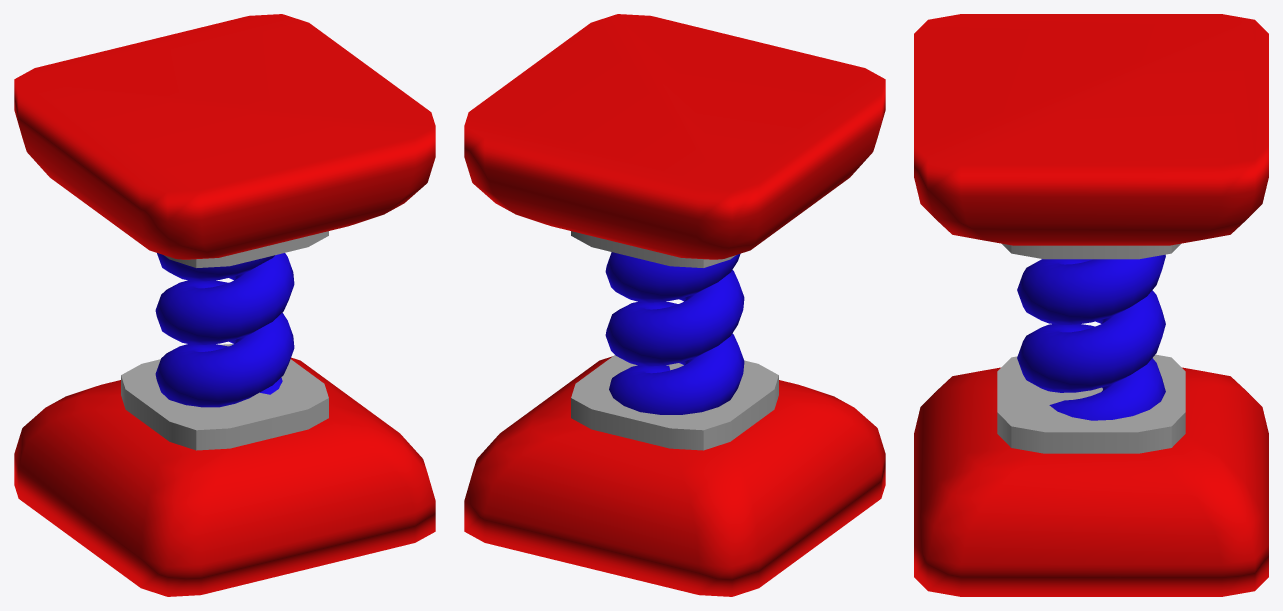
The model's file is springnew-1.fbx.
The picture shows the model from 3 angles, left to right: view 1: azimuth 30°, elevation 25°; view 2: azimuth 150°, elevation 25°; view 3: azimuth 270°, elevation 25°; orthographic projection. The views are drawn at different scales.
Parts seen in each view (by area): view 1: Top, Bottom, pHelix1; view 2: Top, Bottom, pHelix1; view 3: Top, Bottom, pHelix1.
Part boxes in pixels (x1,y1,x2,y2): Top: (14,14,435,267); Bottom: (14,344,435,596); pHelix1: (155,253,294,407); Top: (464,14,885,267); Bottom: (464,355,885,596); pHelix1: (605,252,744,414); Top: (914,14,1268,259); Bottom: (914,354,1268,596); pHelix1: (1017,254,1165,420).
Size of the model in its own units: 3 by 4 by 2.98.
